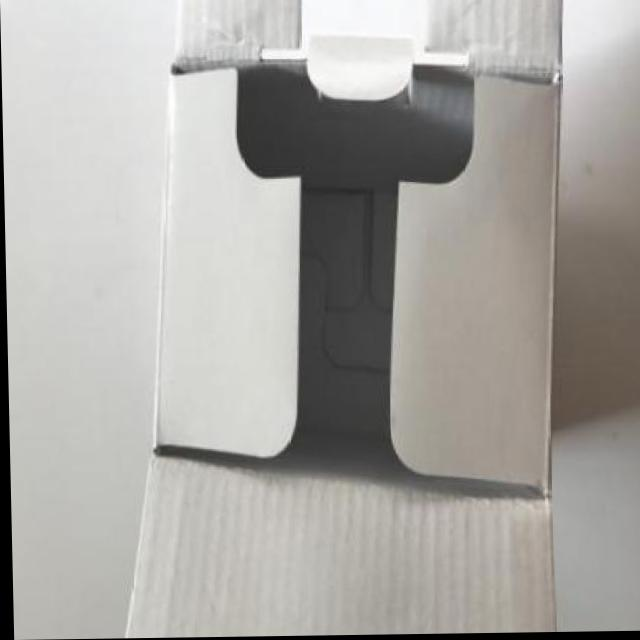box: (99, 0, 583, 639)
